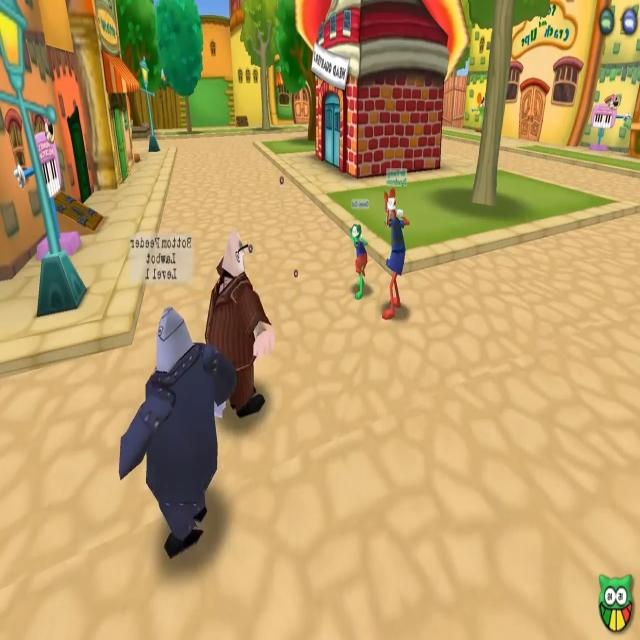bottomfeeder: (116, 233, 239, 566)
flunky: (203, 232, 276, 422)
